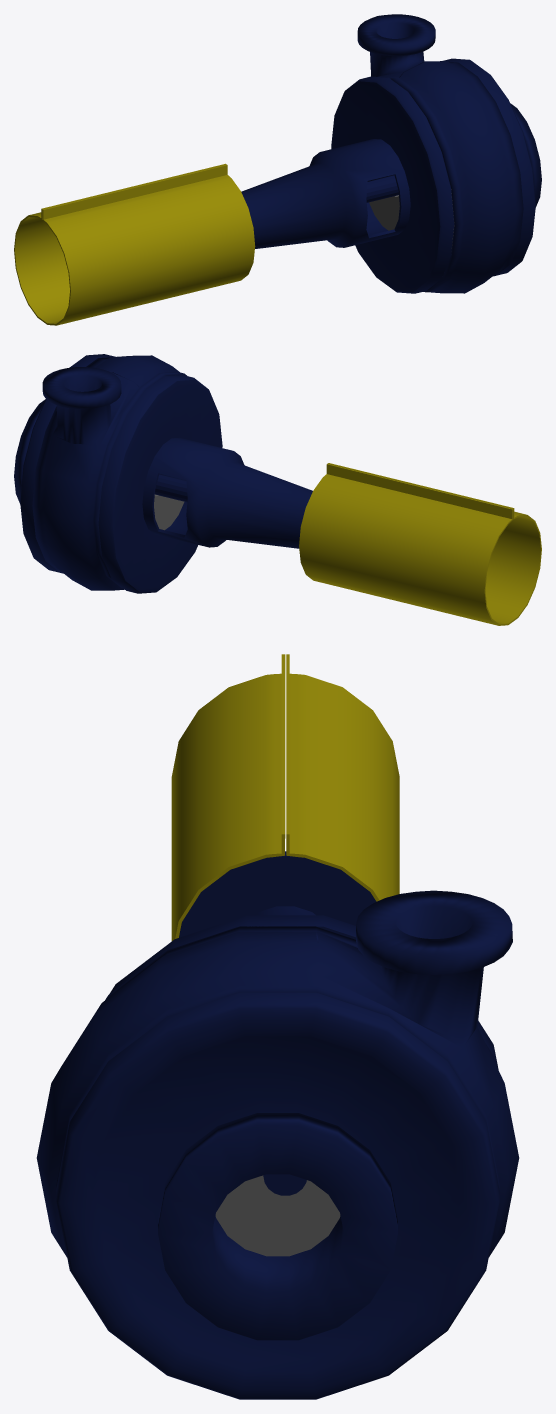
The model's file is Pump_Prototype_v2.FBX.
3 renders of one model, top to bottom at view 1: azimuth 30°, elevation 25°; view 2: azimuth 150°, elevation 25°; view 3: azimuth 270°, elevation 25°, orthographic. The views are drawn at different scales.
Visible parts, largest first — view 1: GHPump_MotorHousing_001, GHPump_BearingCasing_001, GHPump_VoluteCasing_001, GHPump_Intake_001, GHPump_Impellor_001, GHPump_Shaft_001; view 2: GHPump_MotorHousing_001, GHPump_BearingCasing_001, GHPump_VoluteCasing_001, GHPump_Intake_001, GHPump_Impellor_001, GHPump_Shaft_001; view 3: GHPump_Intake_001, GHPump_VoluteCasing_001, GHPump_MotorHousing_001, GHPump_BearingCasing_001, GHPump_Impellor_001.
Boxes of the visible parts, left/top/right/bottom form: GHPump_MotorHousing_001: left=14, top=163, right=255, bottom=325; GHPump_BearingCasing_001: left=241, top=76, right=454, bottom=293; GHPump_VoluteCasing_001: left=357, top=14, right=523, bottom=293; GHPump_Intake_001: left=442, top=58, right=541, bottom=275; GHPump_Impellor_001: left=369, top=189, right=454, bottom=248; GHPump_Shaft_001: left=366, top=175, right=398, bottom=202; GHPump_MotorHousing_001: left=299, top=463, right=541, bottom=625; GHPump_BearingCasing_001: left=98, top=375, right=312, bottom=593; GHPump_VoluteCasing_001: left=32, top=355, right=186, bottom=590; GHPump_Intake_001: left=14, top=354, right=115, bottom=572; GHPump_Impellor_001: left=154, top=494, right=184, bottom=530; GHPump_Shaft_001: left=155, top=474, right=187, bottom=502; GHPump_Intake_001: left=56, top=992, right=499, bottom=1399; GHPump_VoluteCasing_001: left=36, top=890, right=519, bottom=1257; GHPump_MotorHousing_001: left=171, top=654, right=399, bottom=940; GHPump_BearingCasing_001: left=109, top=851, right=498, bottom=1069; GHPump_Impellor_001: left=215, top=1175, right=340, bottom=1256.
Size of the model in its own units: 58.38 by 26.88 by 26.09.
